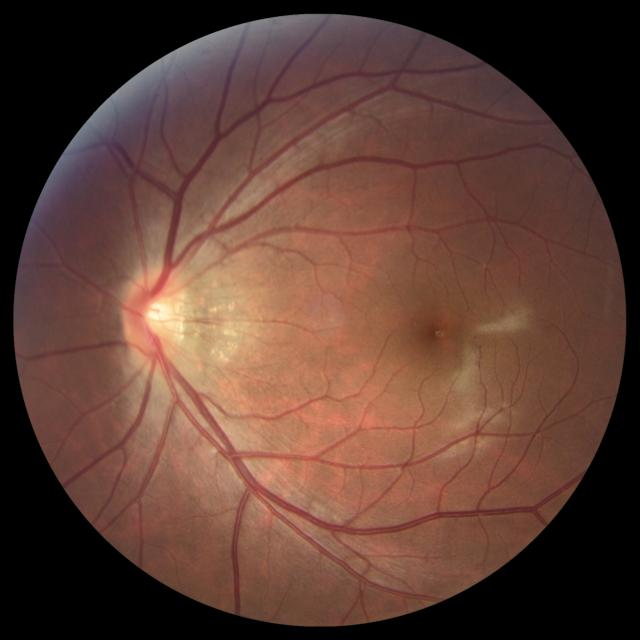OC: (142, 296, 172, 333)
OD: (122, 270, 185, 360)
